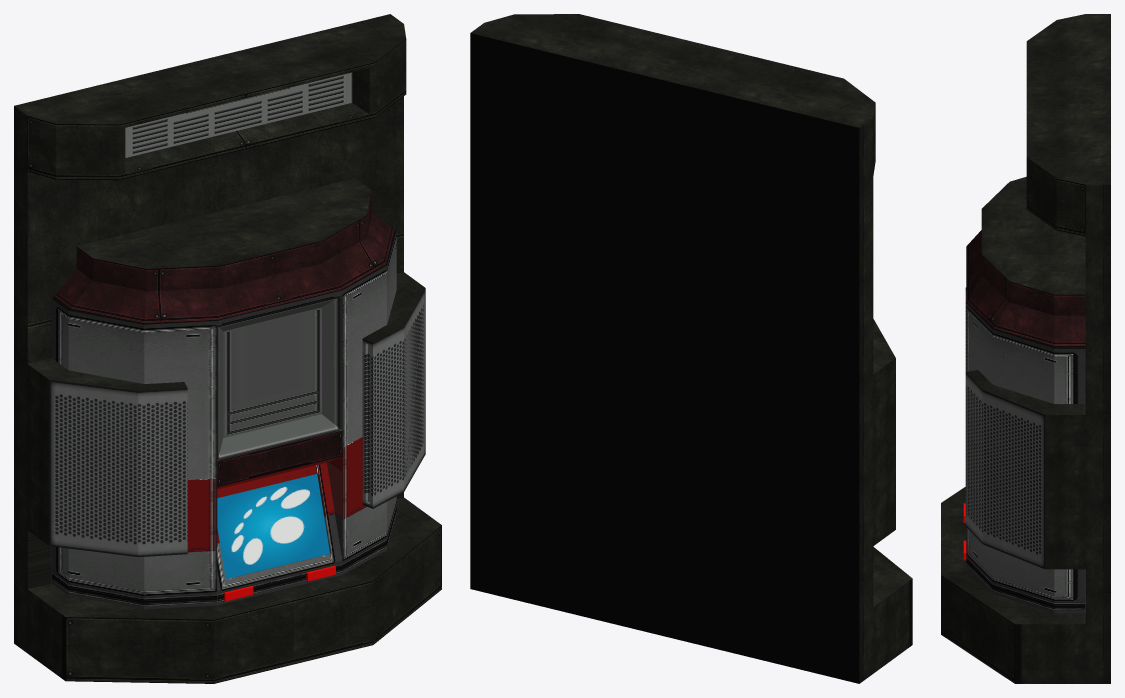
The model's file is health-pack-holder.obj.
3 renders of one model, left to right at view 1: azimuth 30°, elevation 25°; view 2: azimuth 150°, elevation 25°; view 3: azimuth 270°, elevation 25°, orthographic. The views are drawn at different scales.
Parts seen in each view (by area): view 1: Mesh1 Object_0_1 skp33D1 OPTICAN_Health_pack_holder1 Model; view 2: Mesh1 Object_0_1 skp33D1 OPTICAN_Health_pack_holder1 Model; view 3: Mesh1 Object_0_1 skp33D1 OPTICAN_Health_pack_holder1 Model.
Boxes of the visible parts, box(x1,y1,x2,y2) form: Mesh1 Object_0_1 skp33D1 OPTICAN_Health_pack_holder1 Model: box(14, 14, 441, 683); Mesh1 Object_0_1 skp33D1 OPTICAN_Health_pack_holder1 Model: box(470, 14, 912, 683); Mesh1 Object_0_1 skp33D1 OPTICAN_Health_pack_holder1 Model: box(941, 14, 1110, 683).
Size of the model in its own units: 1.78 by 2.43 by 0.749.
